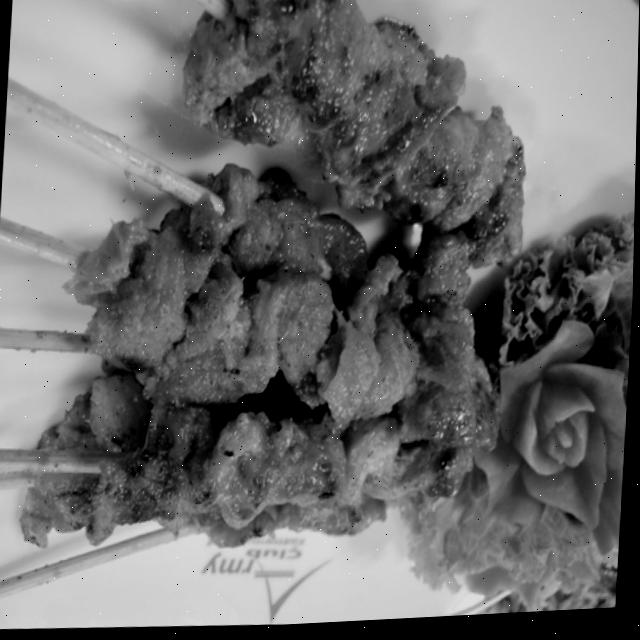牛肉菜式: (0, 0, 611, 630)
